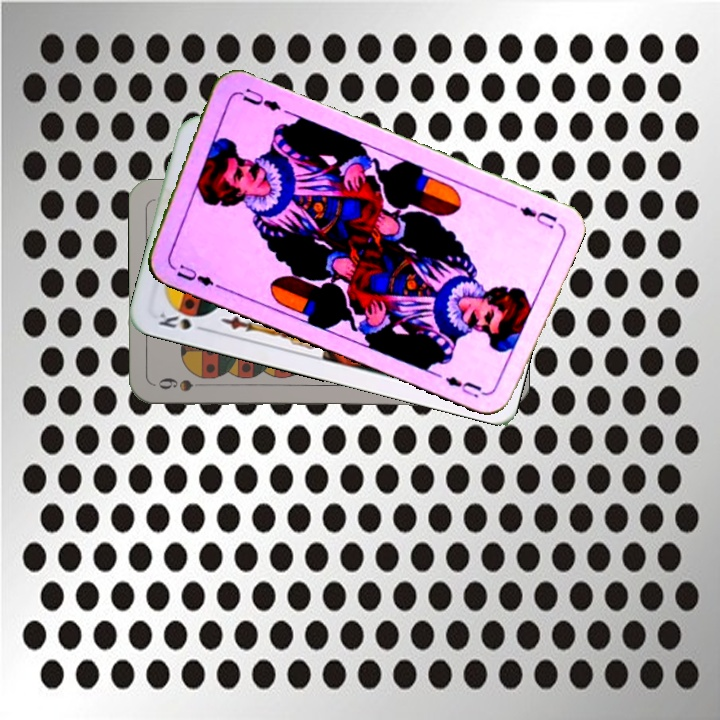EU: (172, 260, 222, 290), (515, 202, 560, 232)
S9: (154, 374, 213, 394)
SK: (154, 308, 211, 334)
